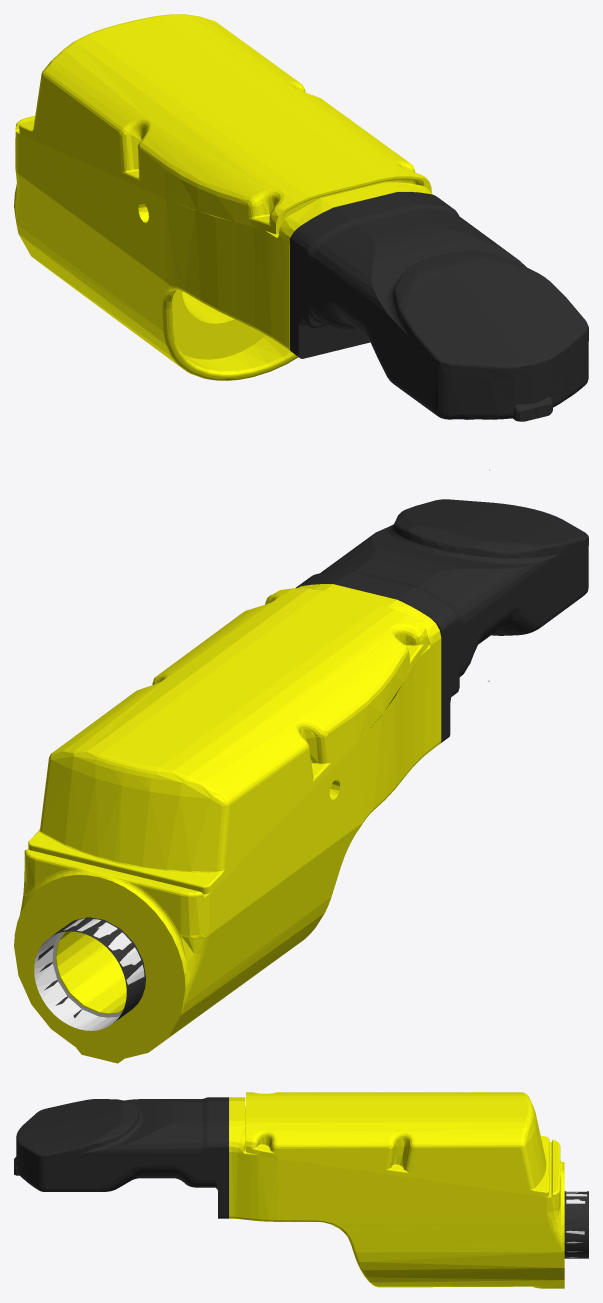
3 views of the same model, one above another, from view 1: azimuth 30°, elevation 25°; view 2: azimuth 150°, elevation 25°; view 3: azimuth 270°, elevation 25° (orthographic). The views are drawn at different scales.
Visible parts, largest first — view 1: node; view 2: node; view 3: node.
Boxes of the visible parts, x1,y1,x2,y2 form: node: (14,14,588,470); node: (14,499,588,1063); node: (14,1092,588,1288).
Size of the model in its own units: 120 by 174 by 520.
